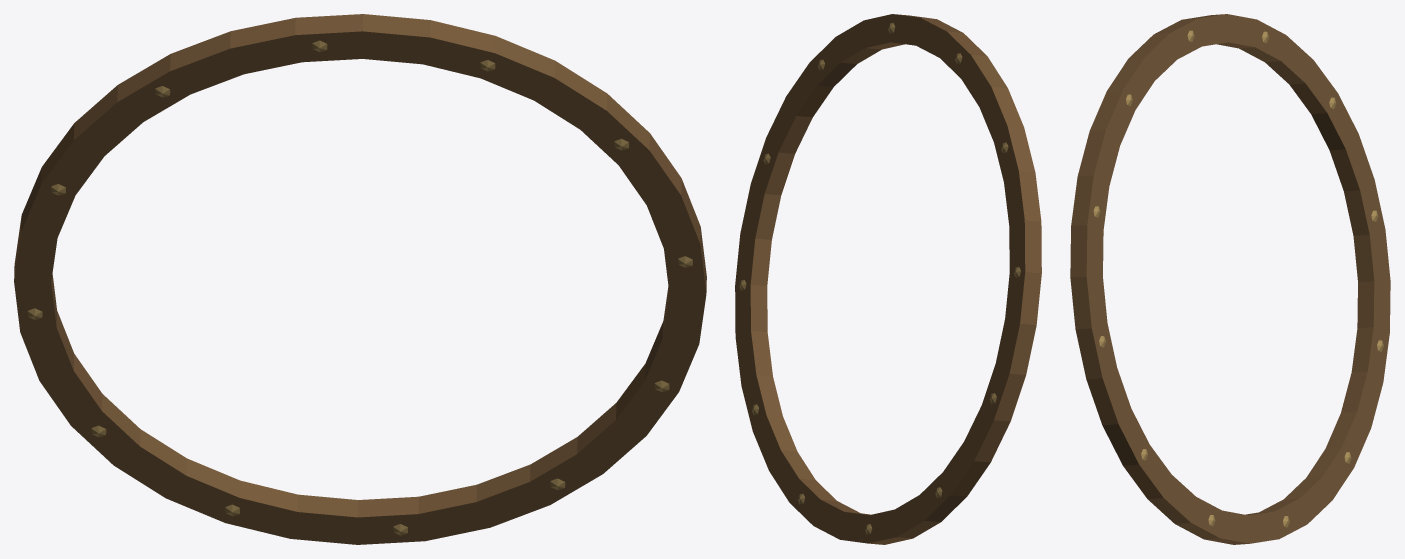
Rendered from energy_tower_ring_b.glb.
3 views of the same model, side by side, from view 1: azimuth 30°, elevation 25°; view 2: azimuth 150°, elevation 25°; view 3: azimuth 270°, elevation 25° (orthographic). The views are drawn at different scales.
Visible parts, largest first — view 1: Metal; view 2: Metal; view 3: Metal.
Boxes of the visible parts, x1=… form: Metal: x1=14, y1=14, x2=706, y2=544; Metal: x1=735, y1=14, x2=1041, y2=544; Metal: x1=1070, y1=14, x2=1390, y2=544.
Bounding box in the file's own units: 2.04 × 2.22 × 1.39.
